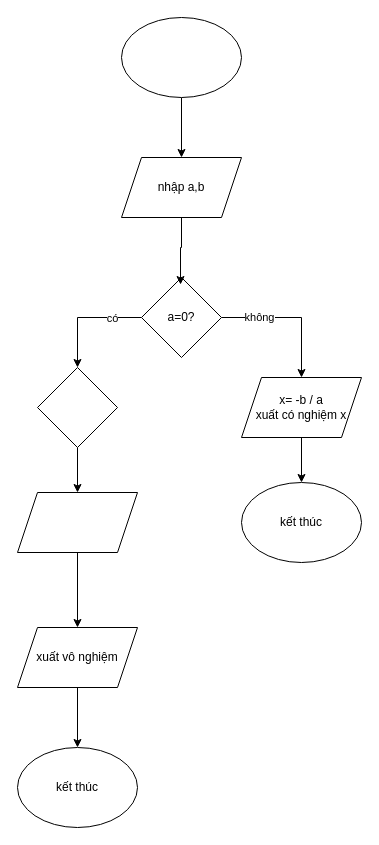
This 379x845 diagram has some shape labels left out. Here are the shapes that lost their labels. From the top down, the box of each, then its label:
(120, 16, 242, 98): Bắt đầu
(36, 366, 118, 448): b=0?
(16, 492, 138, 552): xuất vô sô nghiệm
